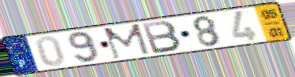0: (34, 34, 68, 69)
4: (231, 9, 260, 43)
8: (191, 15, 223, 48)
9: (67, 30, 102, 63)
B: (140, 19, 184, 55)
M: (101, 22, 153, 61)
